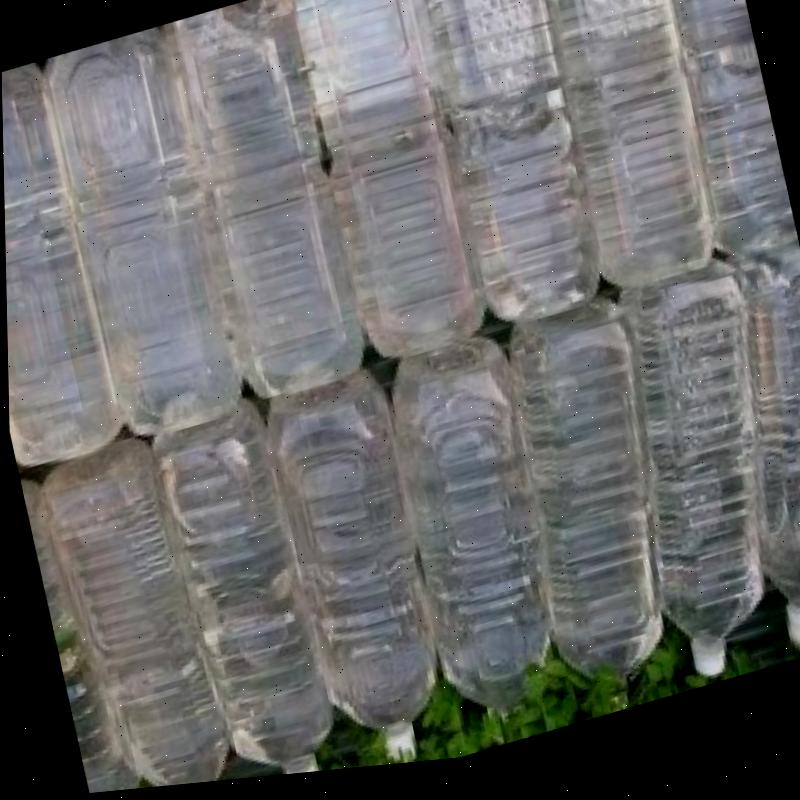botella: (40, 16, 262, 453), (587, 257, 800, 711), (482, 295, 694, 740), (247, 358, 461, 782), (371, 326, 576, 763), (158, 0, 373, 415), (133, 393, 346, 790), (19, 421, 239, 799), (284, 0, 495, 380), (400, 0, 612, 353), (518, 0, 725, 314), (1, 50, 139, 482), (15, 456, 159, 799), (686, 247, 800, 679), (639, 0, 797, 285)
